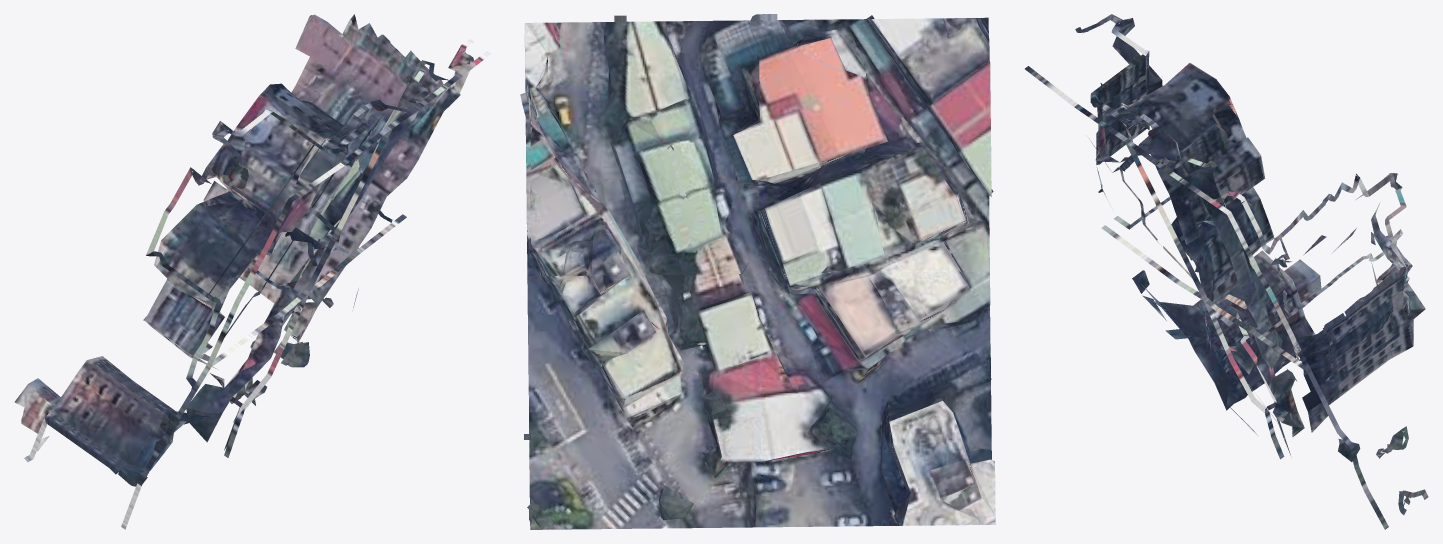
The picture shows the model from 3 angles, left to right: view 1: azimuth 30°, elevation 25°; view 2: azimuth 150°, elevation 25°; view 3: azimuth 270°, elevation 25°; orthographic projection. The views are drawn at different scales.
Size of the model in its own units: 86.77 by 77.72 by 70.81.
Materials: 1 (1 with a texture image).
